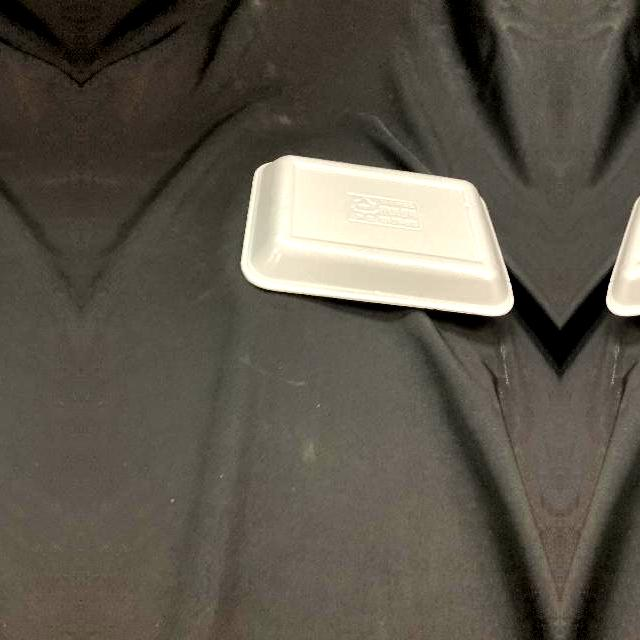Styrofoam: (240, 154, 514, 318), (240, 155, 514, 316)
